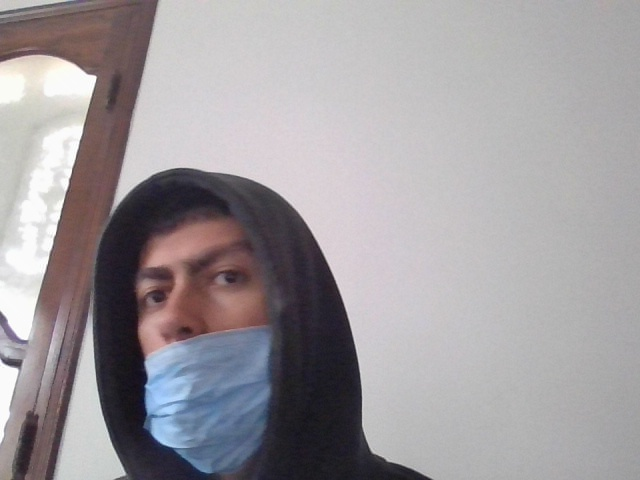mask_weared_incorrect: (122, 182, 296, 475)
